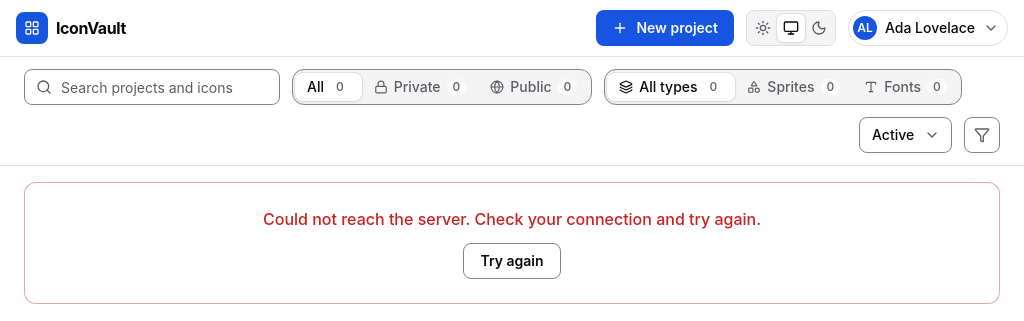
Test: signed in › opens the menu with focus on Sign out, and Escape closes it and returns focus to the button
Click the button with aria-label "account menu" at (928, 28), box [848, 10, 1008, 46]
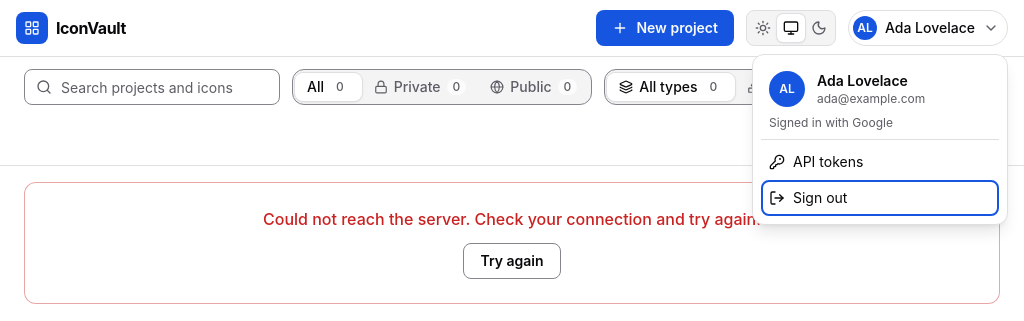
Press Escape
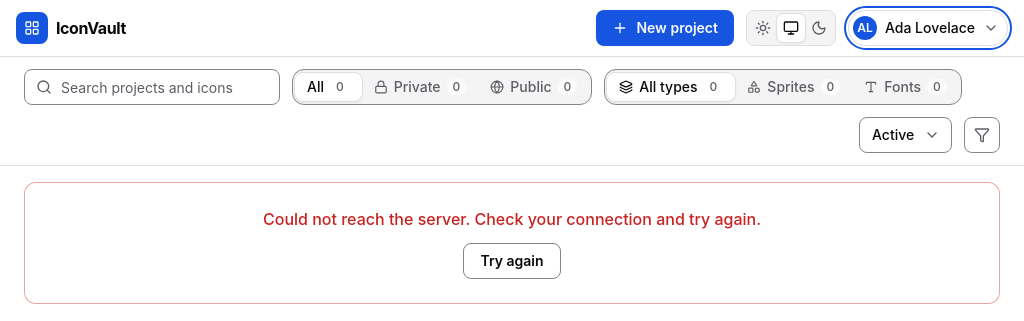
Now the menu is gone
